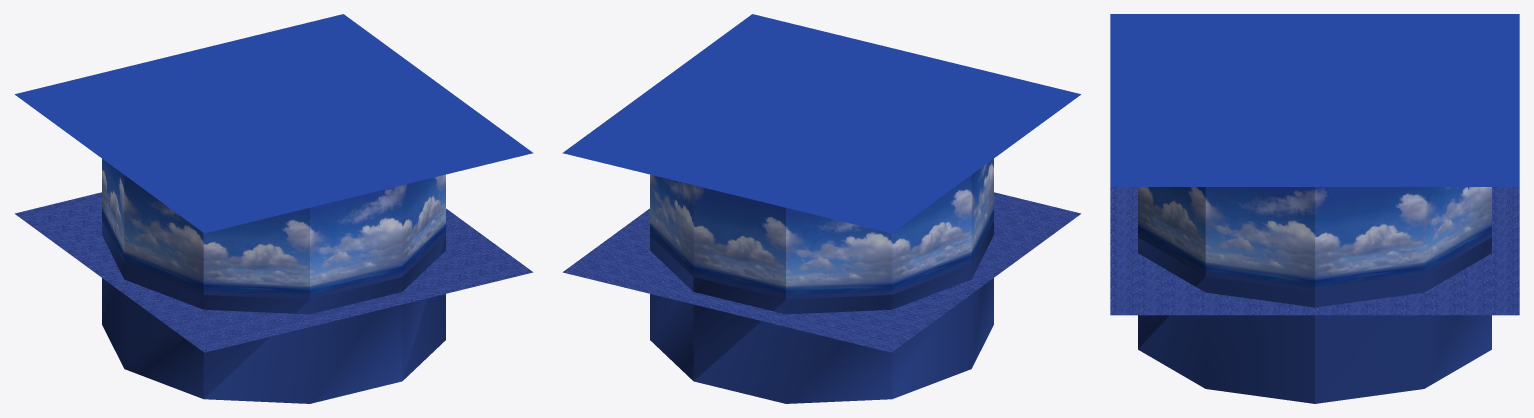
The model's file is map.gltf.
The picture shows the model from 3 angles, left to right: view 1: azimuth 30°, elevation 25°; view 2: azimuth 150°, elevation 25°; view 3: azimuth 270°, elevation 25°; orthographic projection. The views are drawn at different scales.
Parts seen in each view (by area): view 1: Mesh_0139; view 2: Mesh_0139; view 3: Mesh_0139.
Boxes of the visible parts, left/top/right/bottom form: Mesh_0139: left=15, top=14, right=533, bottom=403; Mesh_0139: left=562, top=14, right=1080, bottom=403; Mesh_0139: left=1110, top=14, right=1519, bottom=403.
Bounding box in the file's own units: 1255 × 760 × 1255.
